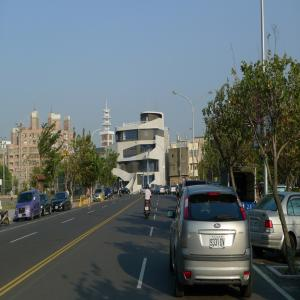Vehicle-registration-plate: (211, 236, 227, 250), (252, 221, 259, 229)
